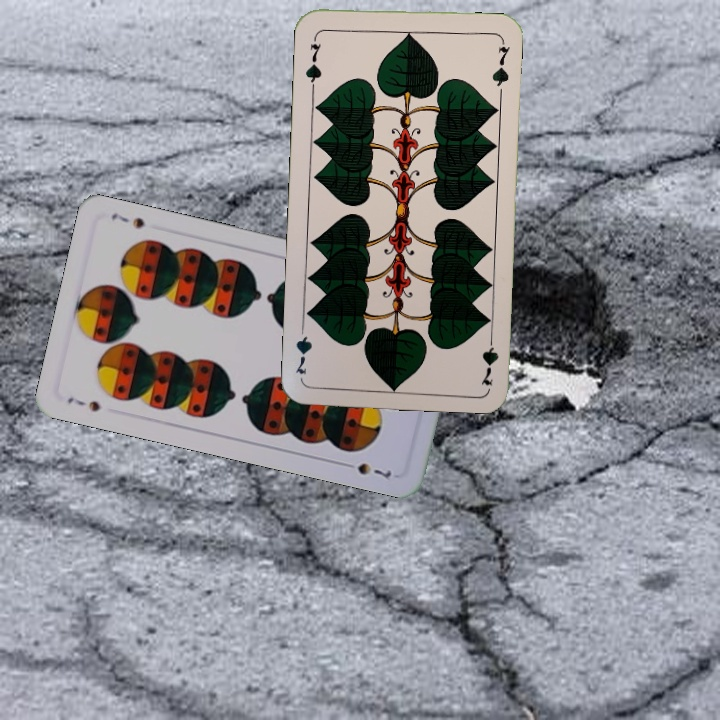G7: (477, 328, 501, 387), (302, 31, 324, 90)
S7: (63, 393, 104, 414)
